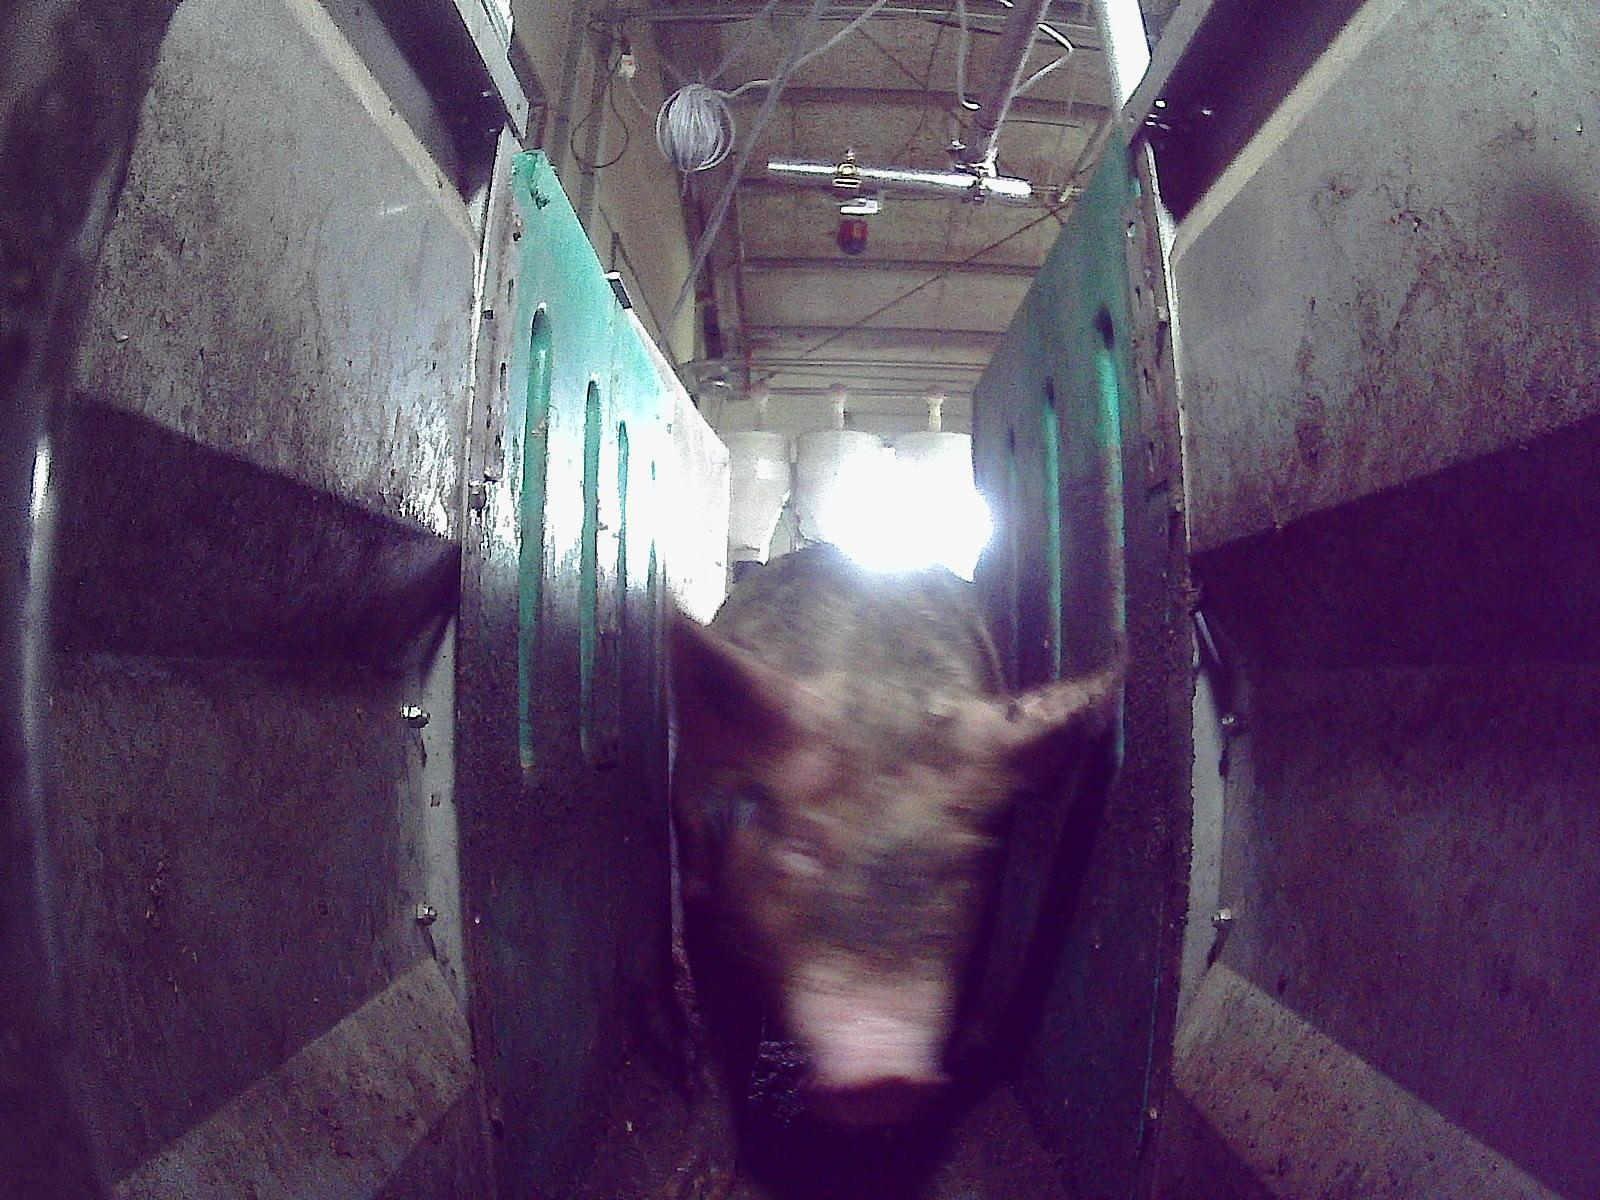Face: (713, 692, 999, 1116)
